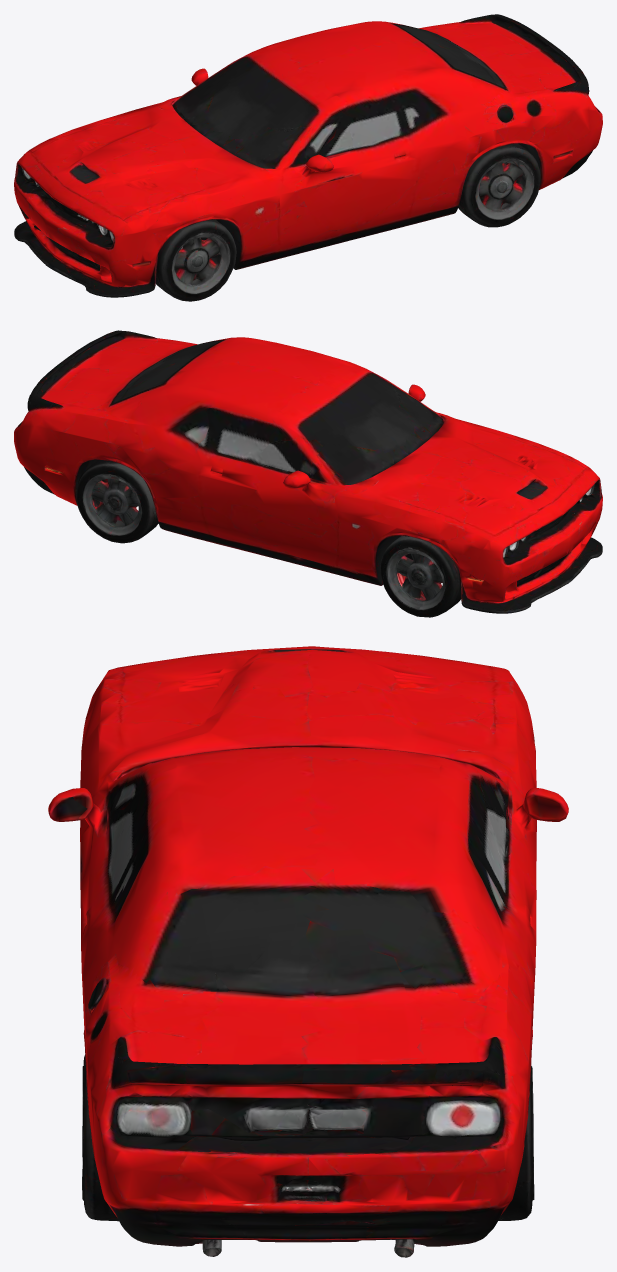
Rendered from ur_inferno.glb.
3 views of the same model, one above another, from view 1: azimuth 30°, elevation 25°; view 2: azimuth 150°, elevation 25°; view 3: azimuth 270°, elevation 25° (orthographic). The views are drawn at different scales.
Bounding box in the file's own units: 1.9 × 0.5598 × 0.8312.
Materials: 1 (1 with a texture image).
